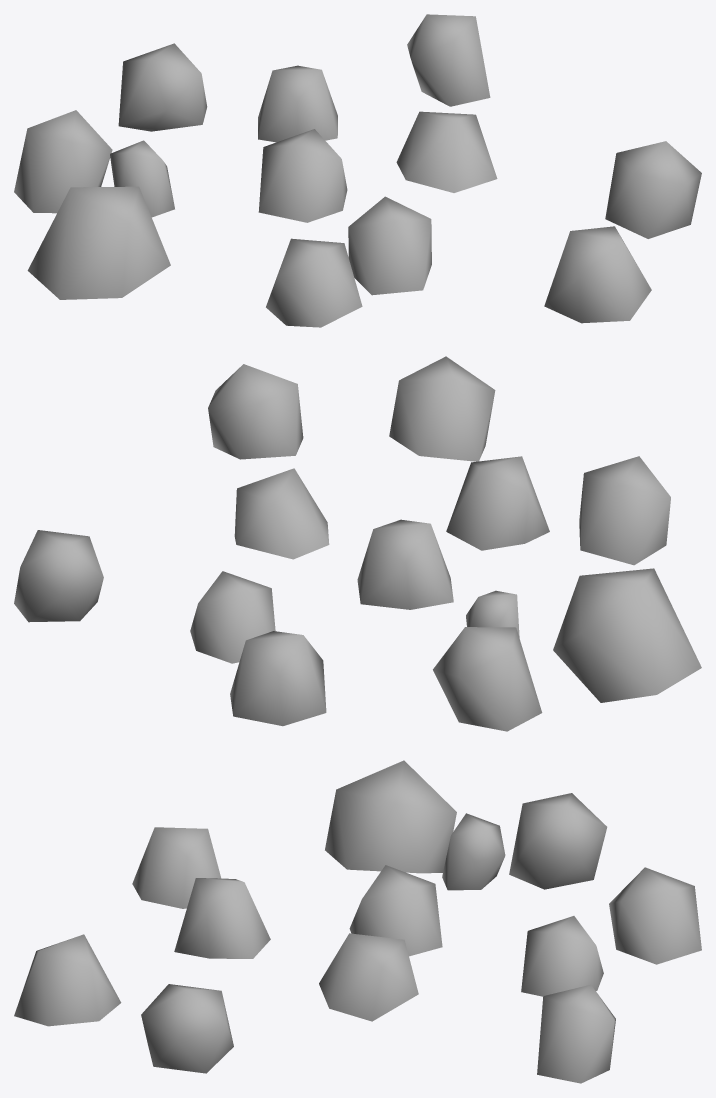
File: Pebbles.fbx
The picture shows the model from 3 angles, top to bottom: view 1: azimuth 30°, elevation 25°; view 2: azimuth 150°, elevation 25°; view 3: azimuth 270°, elevation 25°; orthographic projection. The views are drawn at different scales.
Parts seen in each view (by area): view 1: Pebbles_LOD0; view 2: Pebbles_LOD0; view 3: Pebbles_LOD0.
Boxes of the visible parts, x1,y1,x2,y2 form: Pebbles_LOD0: (14,14,701,327); Pebbles_LOD0: (14,356,701,731); Pebbles_LOD0: (14,760,701,1083).
Size of what is drawn, in the model's own units: 0.3691 by 0.0709 by 0.401.
